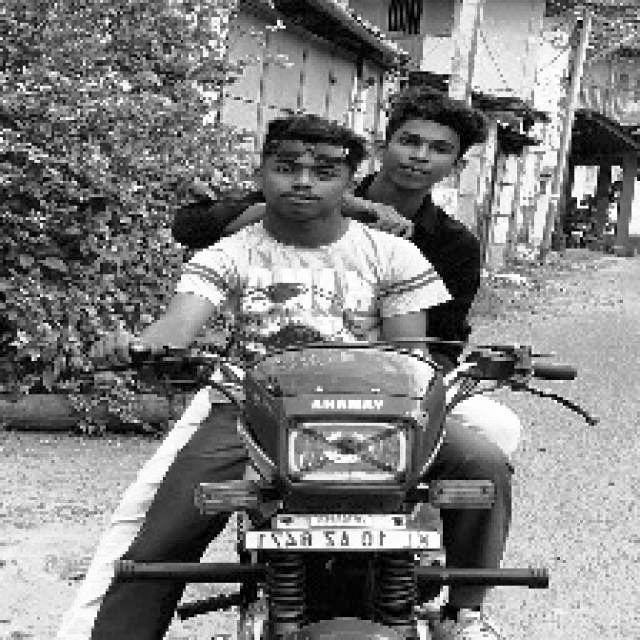Bike: (199, 336, 539, 640)
